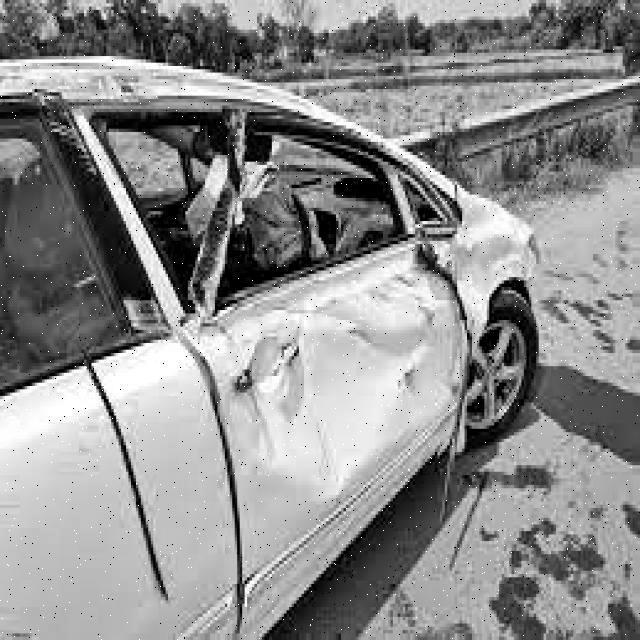doorouter-dent: (220, 247, 464, 603)
fender-dent: (436, 188, 537, 346)
roof-dent: (1, 60, 320, 106)
